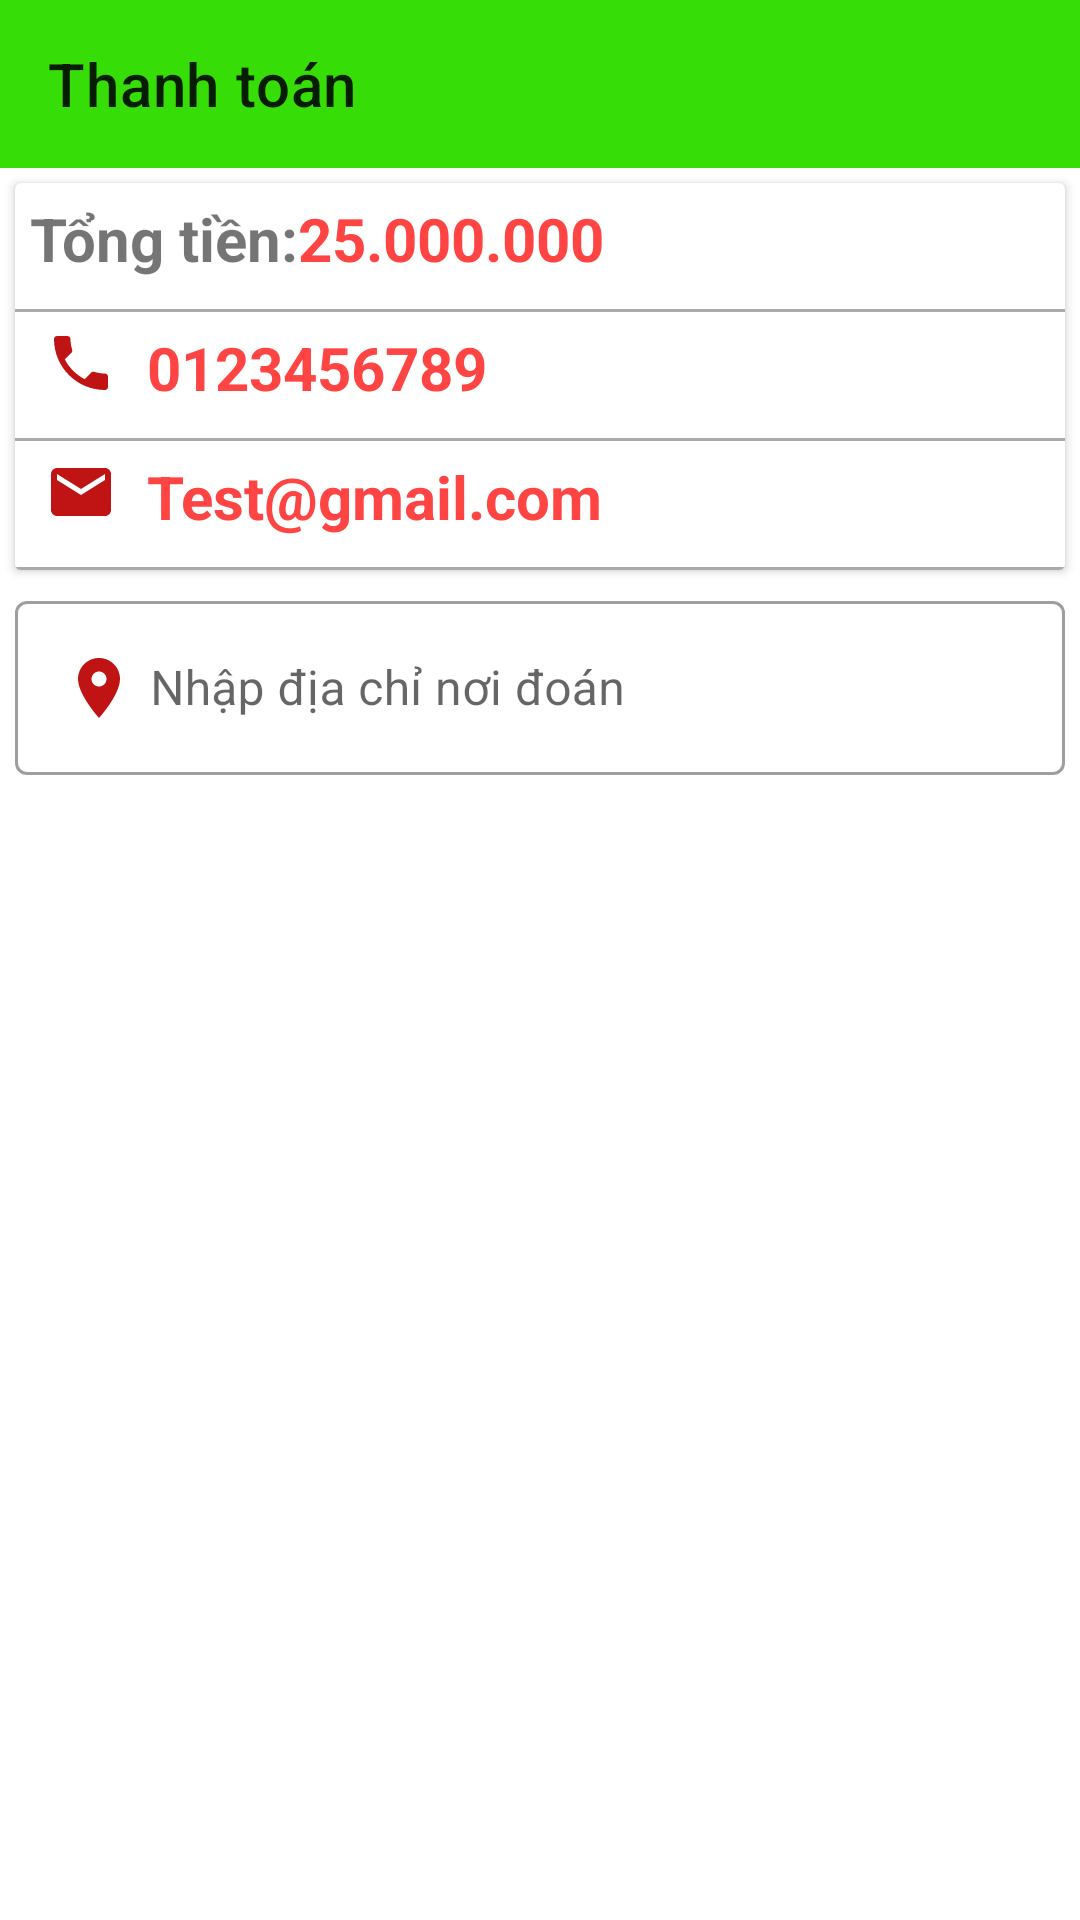

Point at icon controls on the screen. Image size 1080×1920, points as (x,y).
local phone: (81,363)
